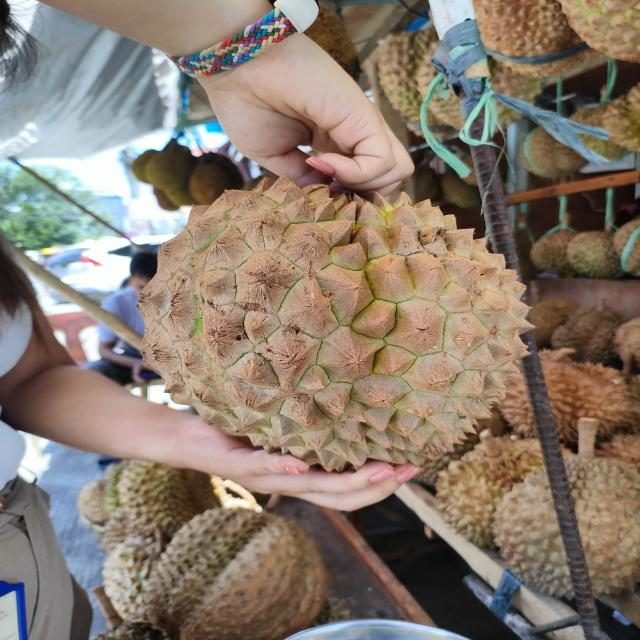mature: (140, 177, 542, 472)
